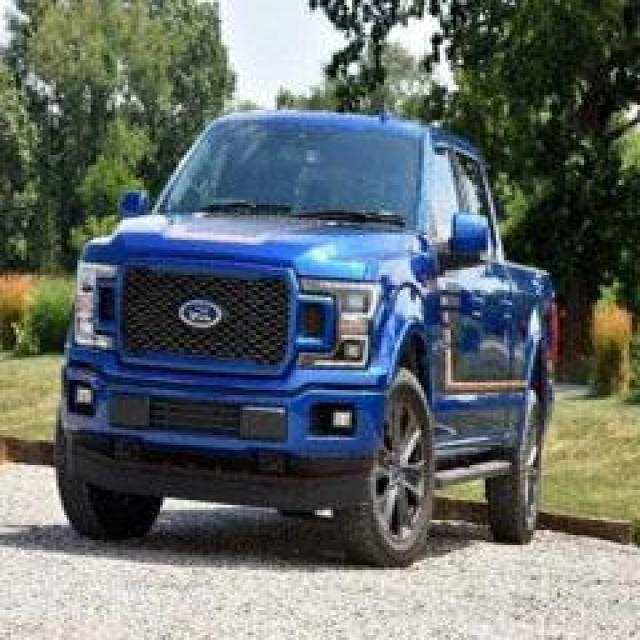car: (34, 65, 570, 575)
